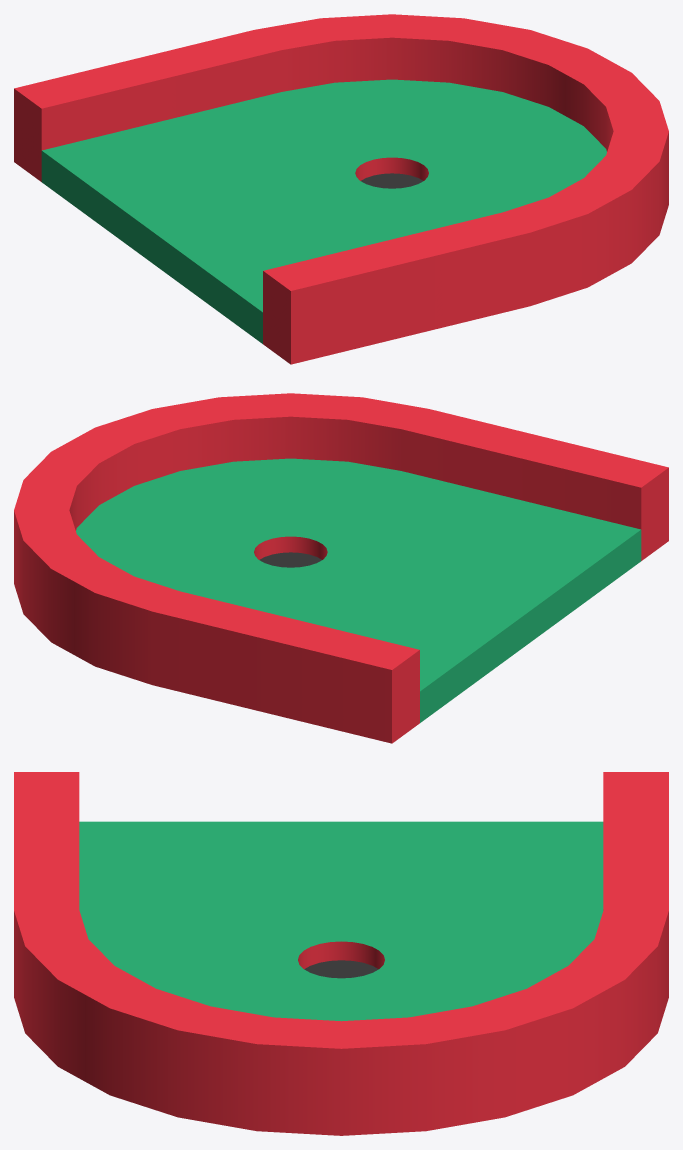
File: holeRound.obj
3 views of the same model, one above another, from view 1: azimuth 30°, elevation 25°; view 2: azimuth 150°, elevation 25°; view 3: azimuth 270°, elevation 25° (orthographic). The views are drawn at different scales.
Visible parts, largest first — view 1: holeRound; view 2: holeRound; view 3: holeRound.
Boxes of the visible parts, <box> form: holeRound: <box>14,14,668,364</box>; holeRound: <box>14,393,668,743</box>; holeRound: <box>14,772,668,1135</box>.
Bounding box in the file's own units: 0.9999 × 0.1467 × 0.9999.
